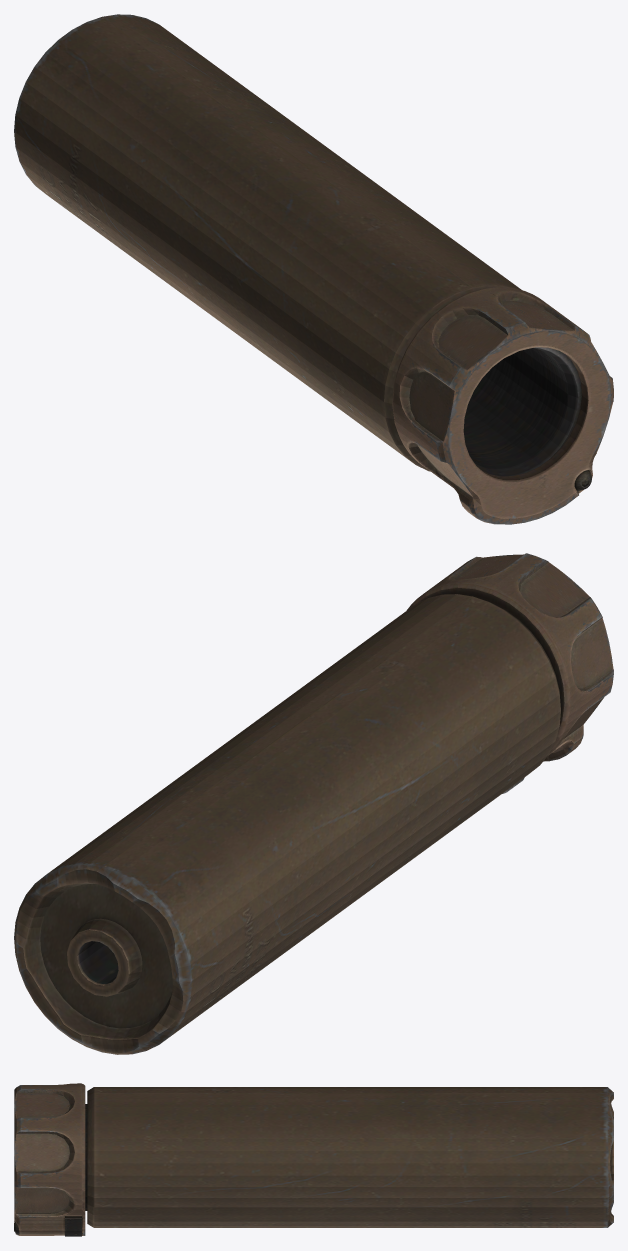
The picture shows the model from 3 angles, top to bottom: view 1: azimuth 30°, elevation 25°; view 2: azimuth 150°, elevation 25°; view 3: azimuth 270°, elevation 25°; orthographic projection. The views are drawn at different scales.
Parts seen in each view (by area): view 1: TW_5ea17bbc09aa976f2e7a51cd_PZ_Import; view 2: TW_5ea17bbc09aa976f2e7a51cd_PZ_Import; view 3: TW_5ea17bbc09aa976f2e7a51cd_PZ_Import.
Part boxes in pixels (x1=…): TW_5ea17bbc09aa976f2e7a51cd_PZ_Import: x1=14, y1=14, x2=613, y2=524; TW_5ea17bbc09aa976f2e7a51cd_PZ_Import: x1=14, y1=553, x2=613, y2=1054; TW_5ea17bbc09aa976f2e7a51cd_PZ_Import: x1=14, y1=1083, x2=613, y2=1236.
Bounding box in the file's own units: 0.021 × 0.089 × 0.0233.
Materials: 1 (1 with a texture image).
